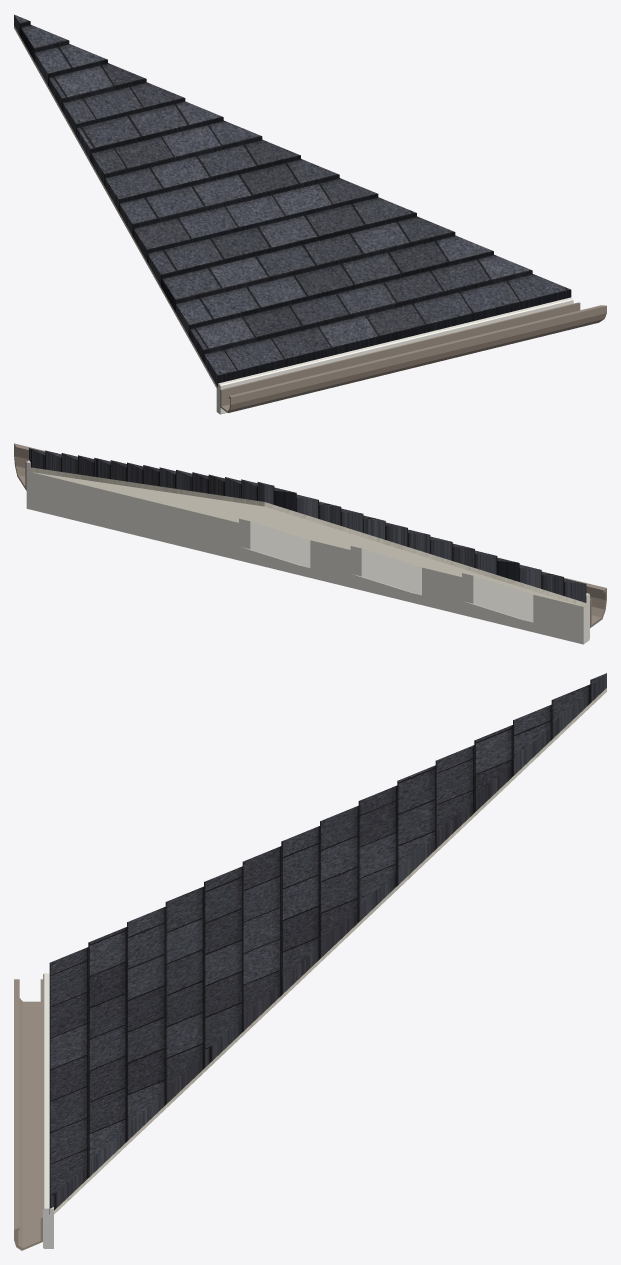
The model's file is roof_hip_5.glb.
3 renders of one model, top to bottom at view 1: azimuth 30°, elevation 25°; view 2: azimuth 150°, elevation 25°; view 3: azimuth 270°, elevation 25°, orthographic. The views are drawn at different scales.
Parts seen in each view (by area): view 1: roof_hip_5_shingles, roof_hip_5_gutter, roof_hip_5_trim, roof_hip_5_plaster; view 2: roof_hip_5_trim, roof_hip_5_shingles, roof_hip_5_plaster, roof_hip_5_gutter; view 3: roof_hip_5_shingles, roof_hip_5_gutter, roof_hip_5_plaster, roof_hip_5_trim.
Boxes of the visible parts, x1,y1,x2,y2 form: roof_hip_5_shingles: (14,14,571,387); roof_hip_5_gutter: (220,302,606,412); roof_hip_5_trim: (216,297,573,414); roof_hip_5_plaster: (14,25,217,390); roof_hip_5_trim: (26,460,589,644); roof_hip_5_shingles: (29,448,586,602); roof_hip_5_plaster: (31,467,586,607); roof_hip_5_gutter: (14,443,606,627); roof_hip_5_shingles: (49,673,606,1214); roof_hip_5_gutter: (14,979,42,1250); roof_hip_5_plaster: (49,688,606,1218); roof_hip_5_trim: (43,973,53,1248).
Bounding box in the file's own units: 2.66 × 1.69 × 2.66.
4 materials, 2 textured.
